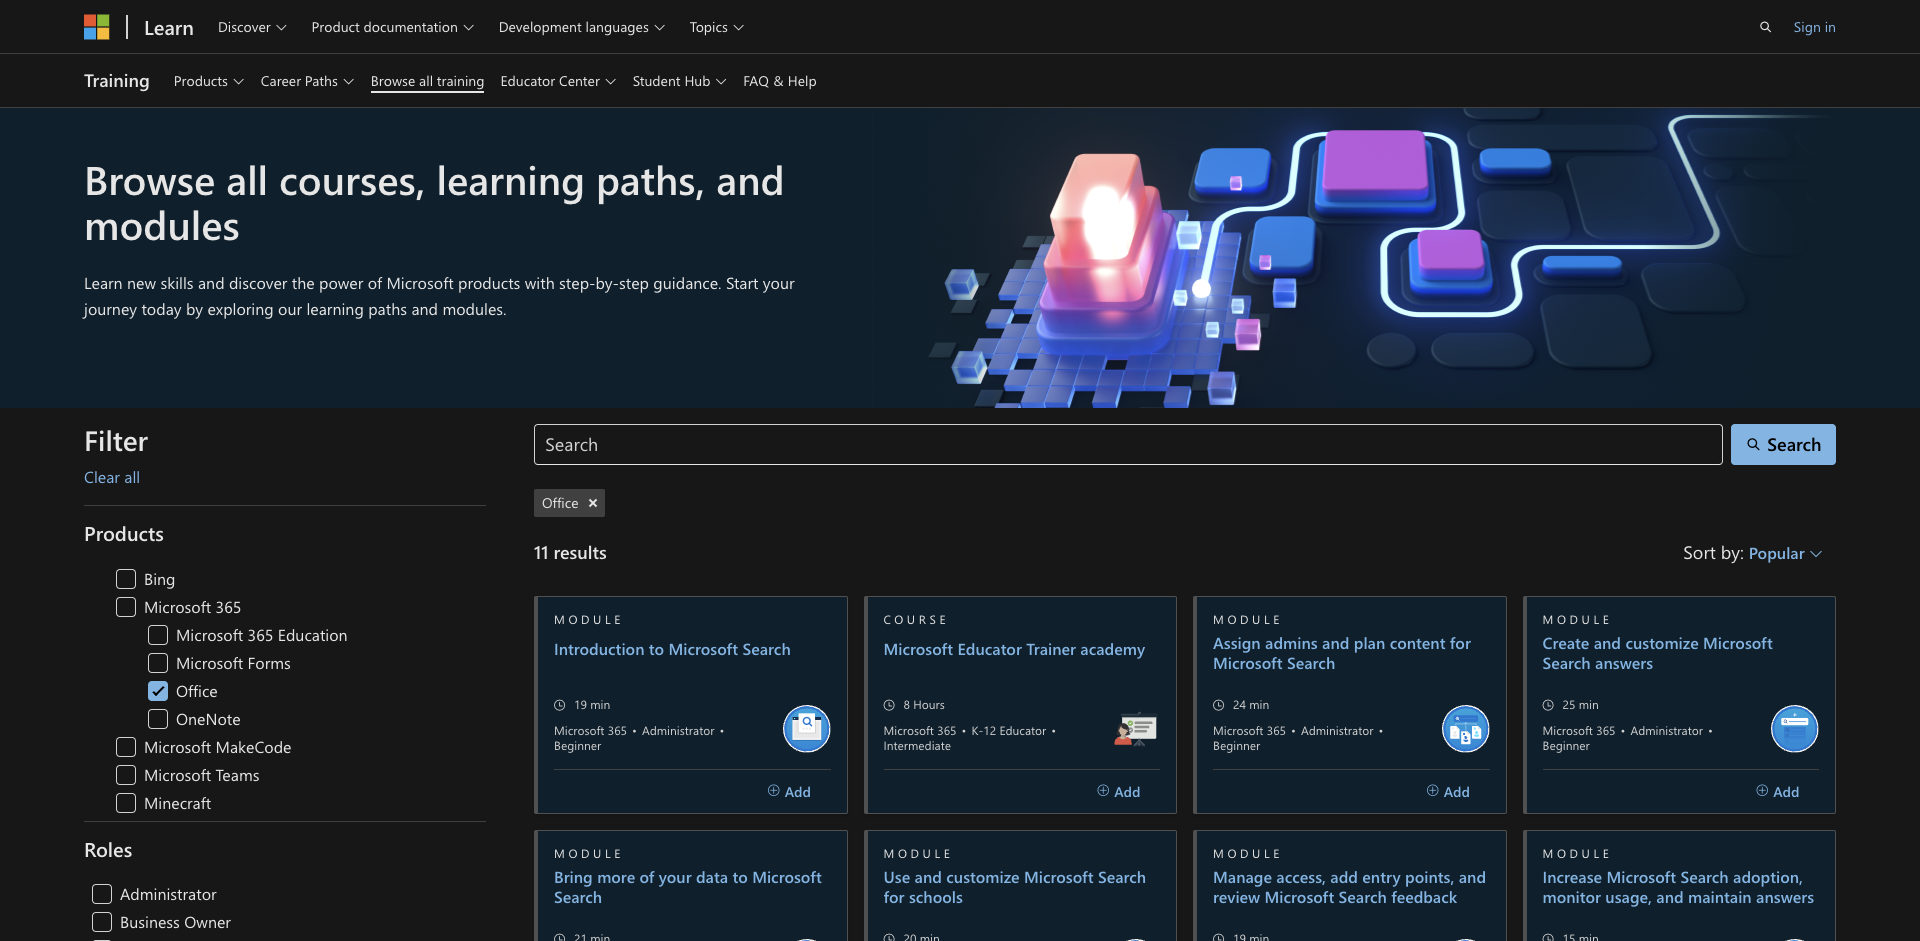button: (491, 0, 674, 53), (303, 0, 483, 53), (1613, 580, 1835, 612), (1613, 612, 1835, 644), (1613, 643, 1835, 675), (1613, 675, 1835, 707), (1613, 706, 1835, 738), (492, 54, 625, 107), (363, 54, 492, 107), (1670, 532, 1836, 572), (253, 54, 363, 107), (625, 54, 735, 107), (1282, 895, 1439, 926), (624, 895, 780, 926), (1612, 895, 1768, 926), (735, 54, 825, 107), (166, 54, 253, 107), (210, 0, 295, 53), (1731, 424, 1836, 464), (682, 0, 753, 53), (1282, 864, 1397, 895), (624, 864, 738, 895), (953, 864, 1067, 895), (1612, 864, 1726, 895), (1415, 776, 1490, 807), (756, 776, 830, 807), (1086, 776, 1160, 807), (1745, 776, 1819, 807), (1415, 776, 1482, 807), (756, 776, 822, 807), (1086, 776, 1152, 807), (1745, 776, 1811, 807), (534, 488, 605, 516), (1746, 8, 1786, 44), (1794, 14, 1836, 39), (84, 468, 140, 486)
checkbox: (115, 578, 116, 579), (115, 606, 116, 607), (147, 634, 148, 635), (147, 662, 148, 663), (147, 690, 148, 691), (147, 718, 148, 719), (115, 746, 116, 747), (115, 774, 116, 775), (115, 802, 116, 803), (115, 830, 116, 831), (91, 894, 92, 895), (91, 922, 92, 923)
dropdown: (492, 54, 625, 107), (253, 54, 363, 107), (625, 54, 735, 107), (166, 54, 253, 107)
input: (534, 424, 1723, 464)
label: (148, 625, 348, 645), (116, 737, 291, 757), (148, 653, 291, 673), (116, 765, 259, 785), (92, 912, 231, 932), (116, 597, 241, 617), (92, 884, 217, 904), (116, 793, 211, 813), (148, 709, 241, 729), (116, 821, 209, 841), (148, 681, 218, 701), (116, 569, 176, 589), (92, 940, 274, 941)
link: (1213, 632, 1490, 672), (1542, 632, 1819, 672), (883, 867, 1160, 907), (1213, 867, 1490, 907), (1542, 867, 1819, 907), (554, 867, 830, 907), (883, 639, 1160, 666), (554, 639, 830, 666), (136, 7, 202, 46), (84, 62, 150, 99), (0, 0, 31, 31), (84, 14, 110, 40)
